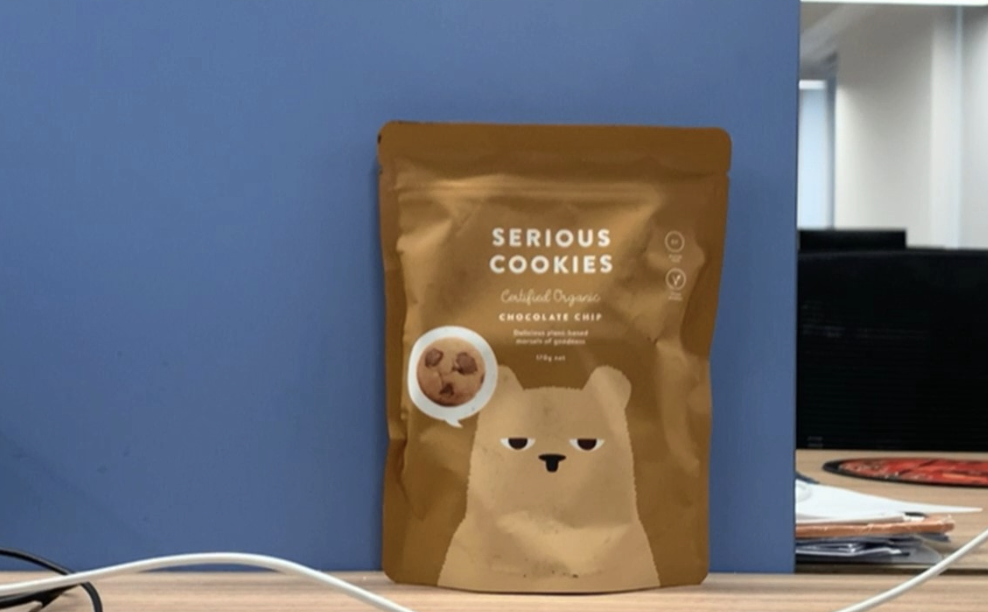cookies_100g-199g: (409, 207, 688, 560)
